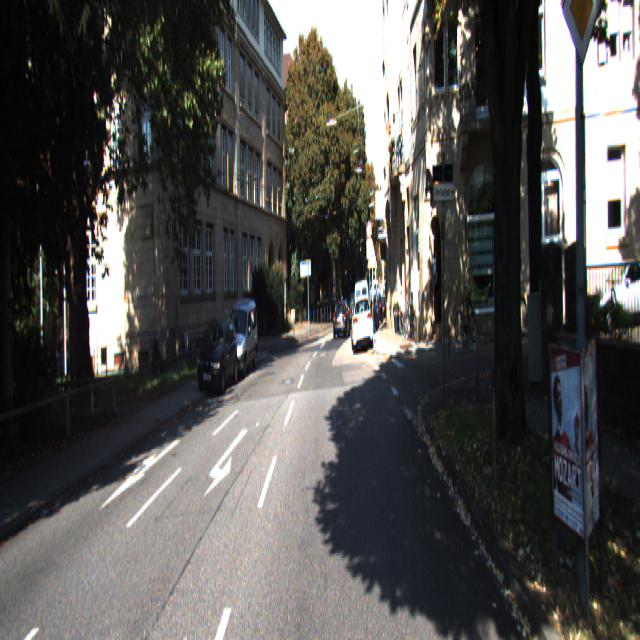Car: (586, 263, 640, 338), (194, 315, 240, 398), (222, 299, 258, 385), (350, 294, 372, 355), (353, 276, 369, 346), (333, 299, 351, 341)
